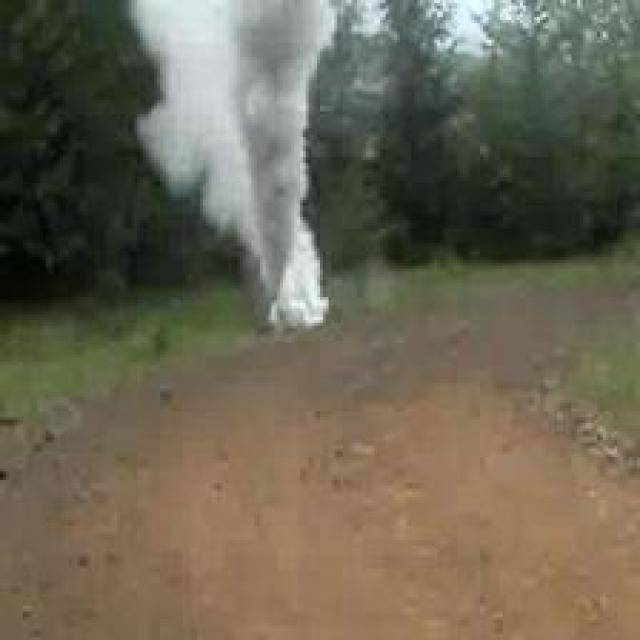Smoke: (125, 0, 340, 334)
